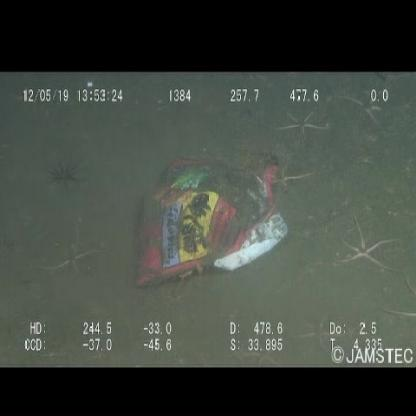Rác: (133, 149, 293, 289)
